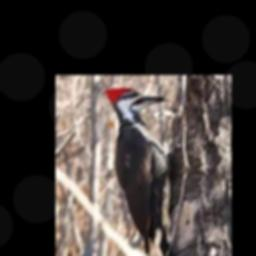Woodpecker: (105, 87, 173, 256)
